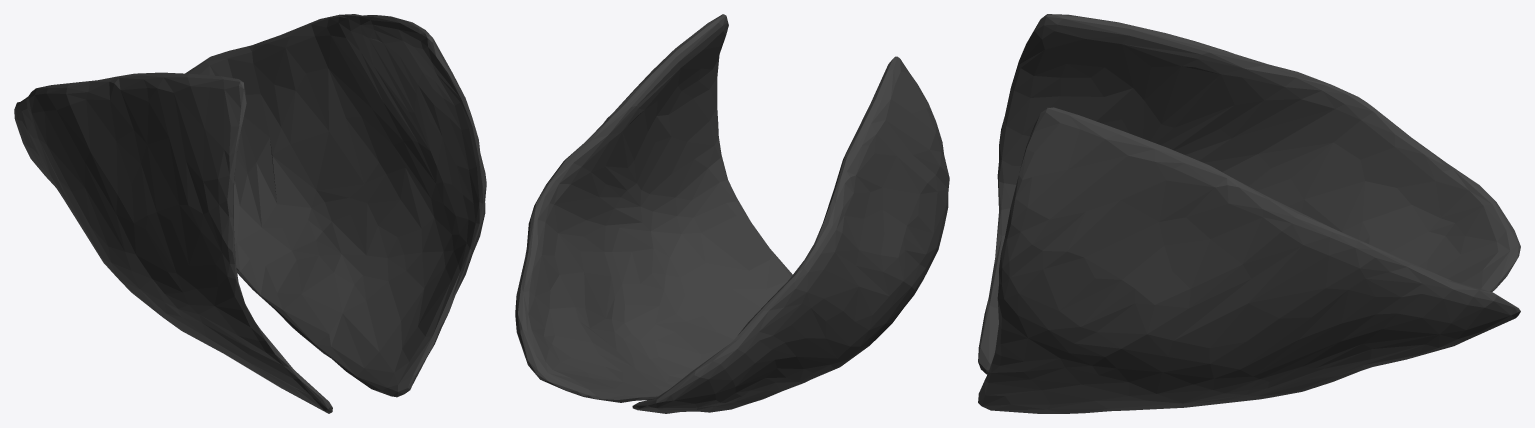
File: m_cutaneous_trunci.glb
3 views of the same model, side by side, from view 1: azimuth 30°, elevation 25°; view 2: azimuth 150°, elevation 25°; view 3: azimuth 270°, elevation 25° (orthographic). The views are drawn at different scales.
Visible parts, largest first — view 1: m_cutaneous_trunci; view 2: m_cutaneous_trunci; view 3: m_cutaneous_trunci.
Boxes of the visible parts, x1=… form: m_cutaneous_trunci: x1=14, y1=14, x2=486, y2=413; m_cutaneous_trunci: x1=515, y1=14, x2=949, y2=413; m_cutaneous_trunci: x1=978, y1=14, x2=1520, y2=413.
Size of the model in its own units: 0.00859 by 0.00892 by 0.013.
1 material, 1 textured.
